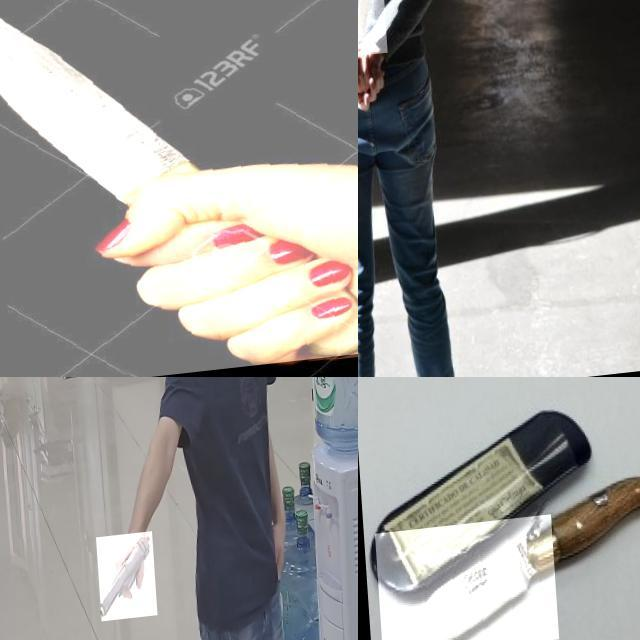-: (0, 0, 358, 377), (372, 518, 555, 640), (358, 0, 383, 62)
gun-knife-thesis - v11 Yolov5 augmented: (90, 538, 150, 628)
